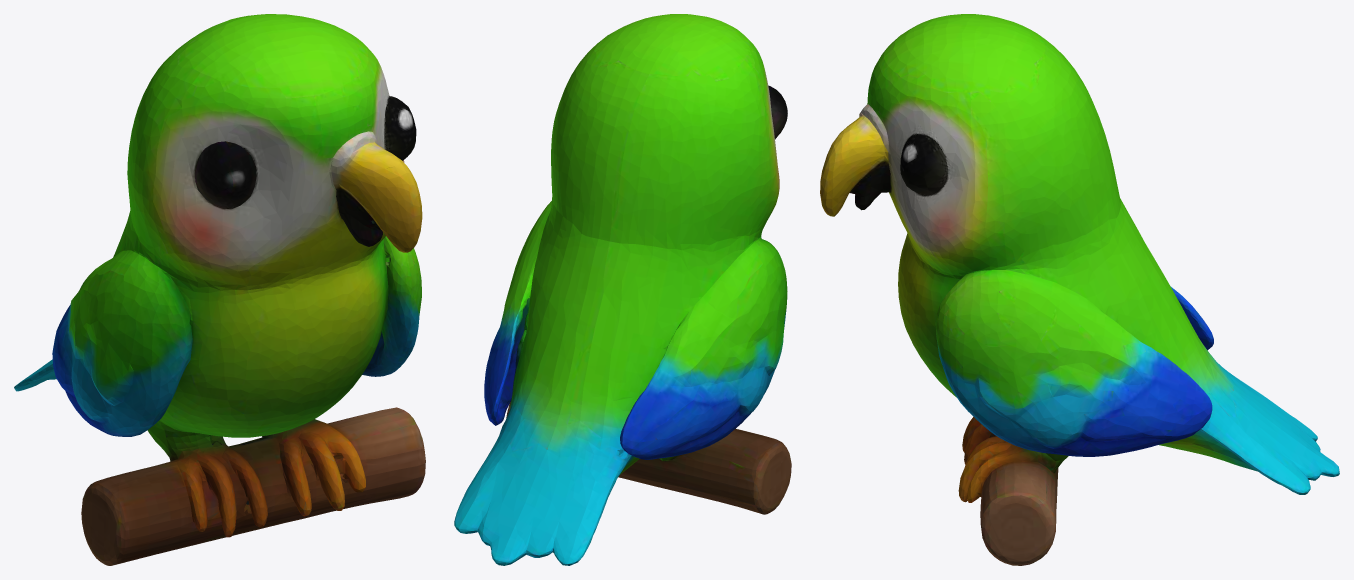
The model's file is parrot.glb.
3 renders of one model, left to right at view 1: azimuth 30°, elevation 25°; view 2: azimuth 150°, elevation 25°; view 3: azimuth 270°, elevation 25°, orthographic. The views are drawn at different scales.
Visible parts, largest first — view 1: geometry_0; view 2: geometry_0; view 3: geometry_0.
Boxes of the visible parts, x1,y1,x2,y2 form: geometry_0: (14,14,425,565); geometry_0: (454,14,791,565); geometry_0: (820,14,1339,565).
Size of the model in its own units: 0.6135 by 0.9955 by 0.9971.
Materials: 1 (1 with a texture image).
